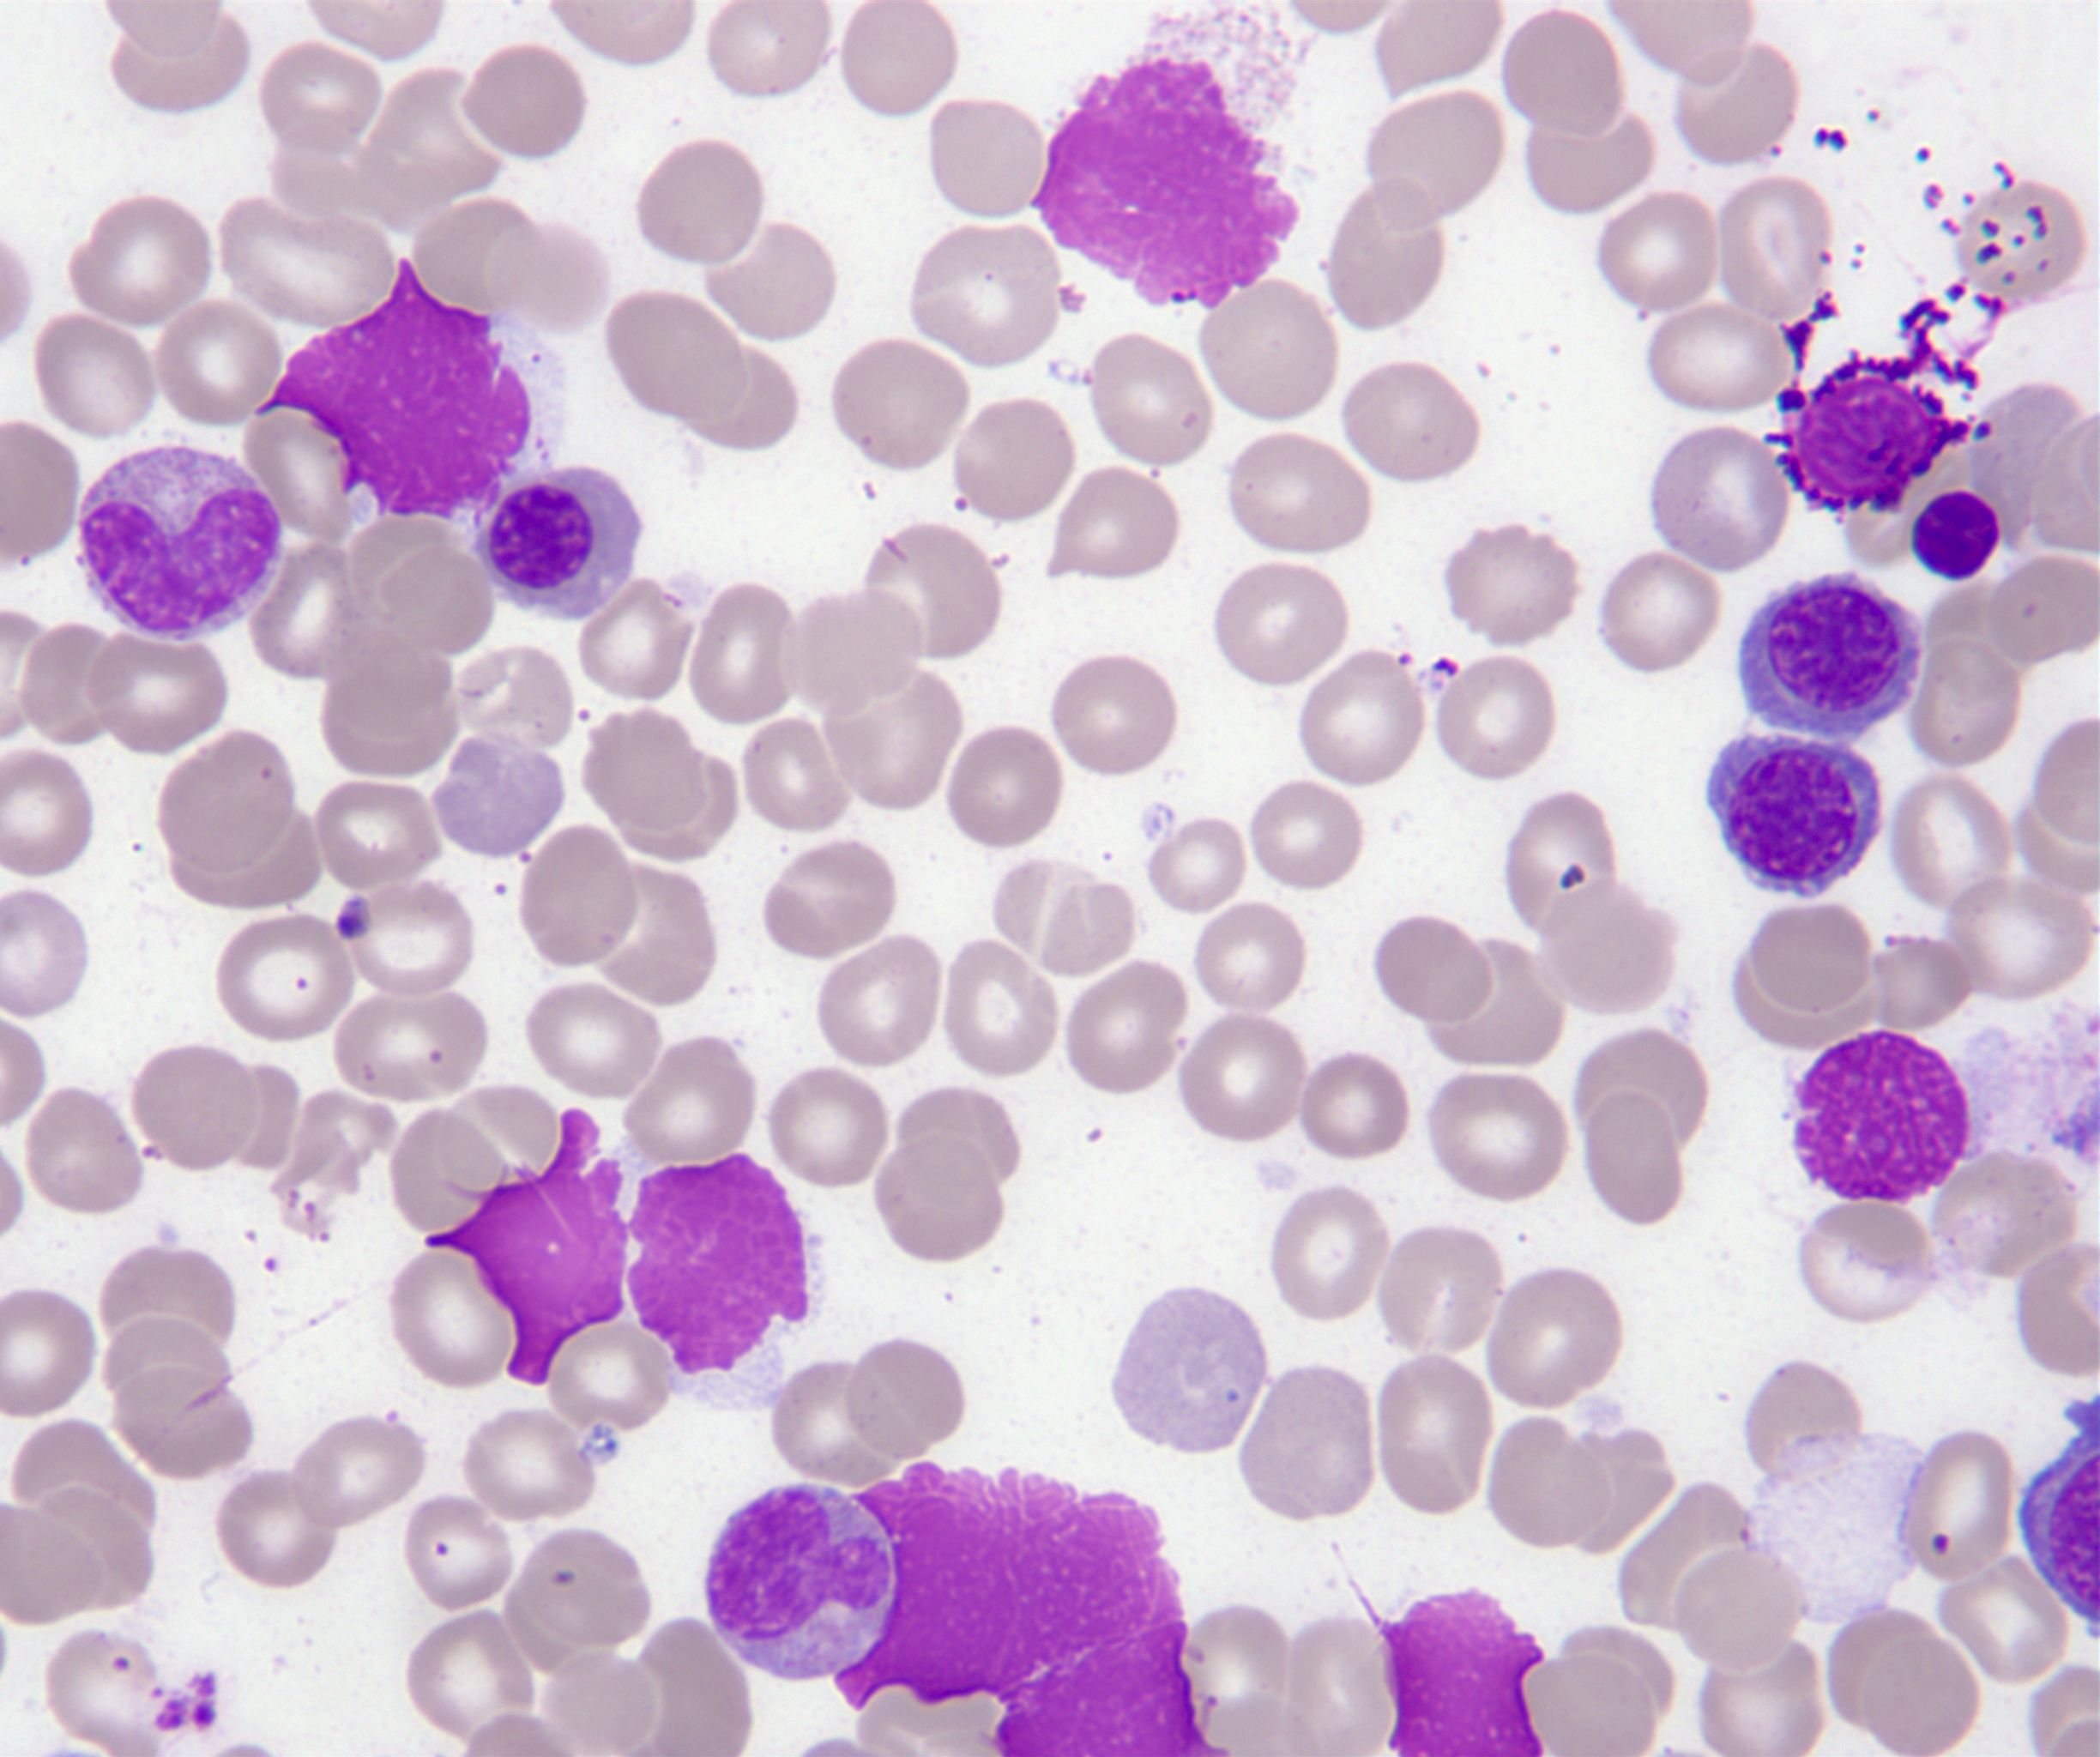23: (1739, 572, 1927, 742), (1709, 735, 1880, 897)
24: (474, 466, 638, 621), (1913, 489, 1995, 579)
4: (78, 450, 281, 644)
5: (705, 1487, 895, 1678)
x: (837, 1462, 1223, 1757), (256, 256, 528, 523), (1029, 58, 1296, 309), (424, 1110, 626, 1385), (1777, 298, 1980, 515), (626, 1153, 808, 1370), (1795, 1031, 1966, 1206), (1378, 1593, 1542, 1757)
